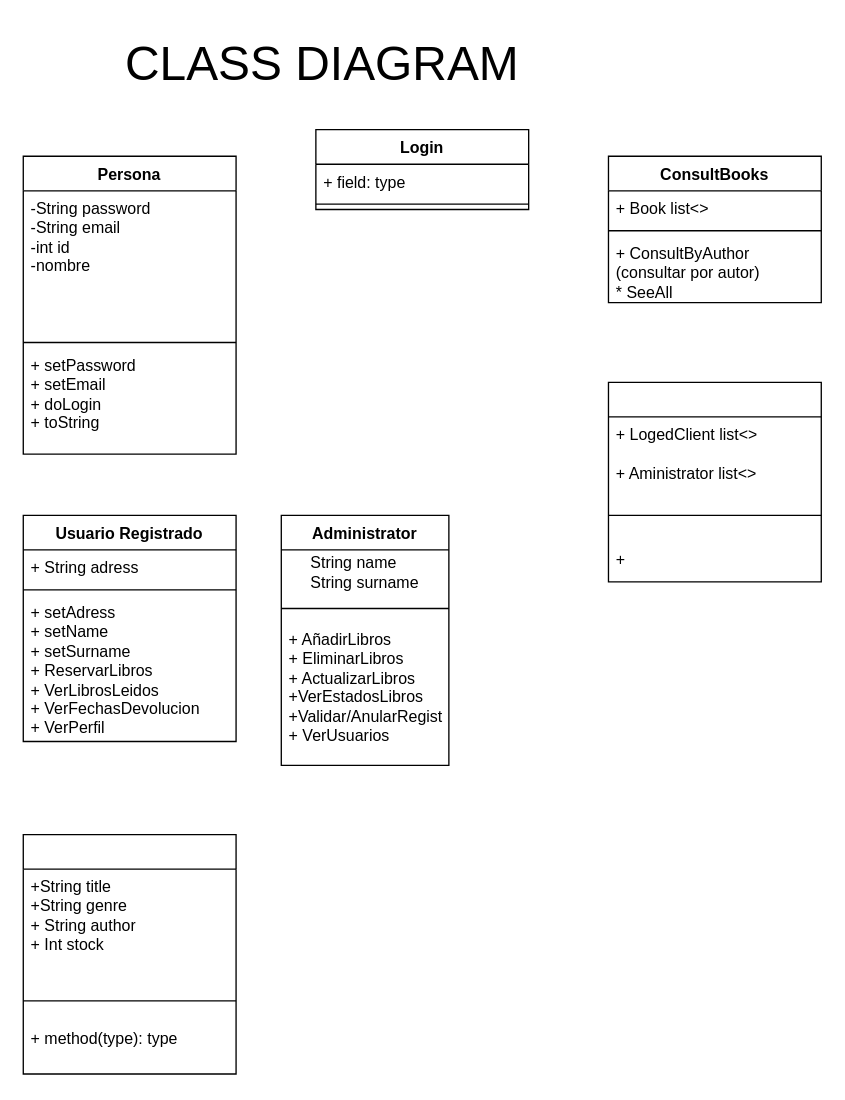
The diagram is 845 pixels wide and 1100 high, and some of its shapes have lost their labels. Here are the shapes that lost their labels. From the top down, the box of each, then its label:
(607, 381, 821, 582): LibraryManagement
(22, 833, 236, 1074): Book
